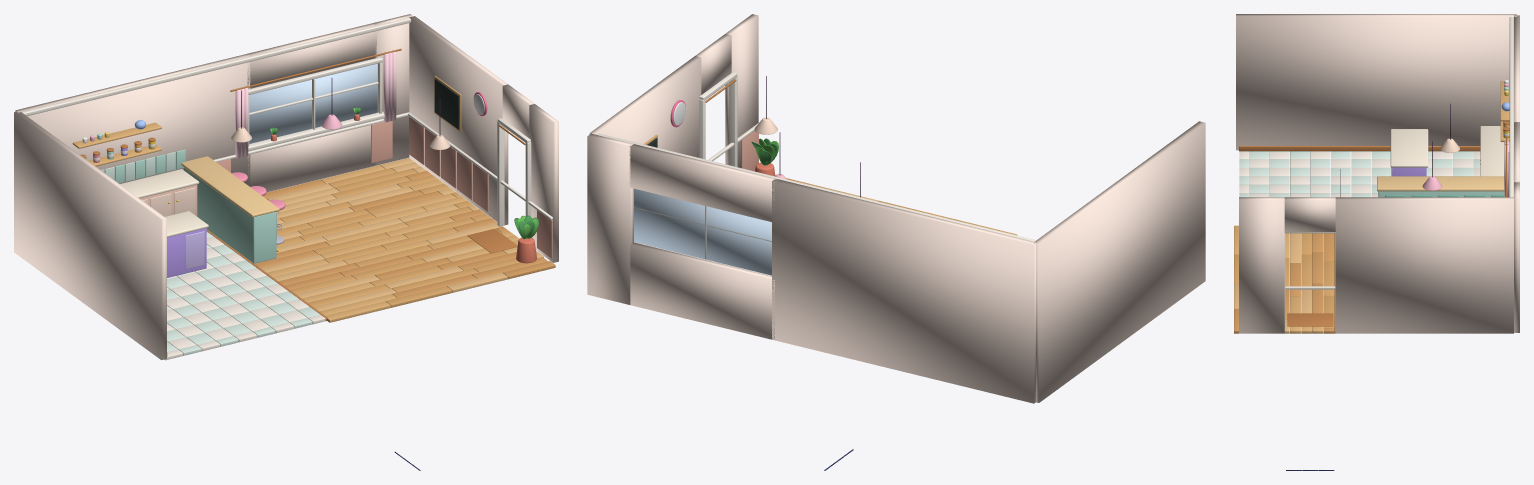
Rendered from cafe.glb.
3 views of the same model, side by side, from view 1: azimuth 30°, elevation 25°; view 2: azimuth 150°, elevation 25°; view 3: azimuth 270°, elevation 25° (orthographic). The views are drawn at different scales.
Parts seen in each view (by area): view 1: Cafe_static; view 2: Cafe_static; view 3: Cafe_static.
Boxes of the visible parts, x1=… form: Cafe_static: x1=14, y1=14, x2=558, y2=470; Cafe_static: x1=587, y1=14, x2=1205, y2=470; Cafe_static: x1=1234, y1=14, x2=1519, y2=470.
Bounding box in the file's own units: 8.64 × 7.03 × 5.62.
